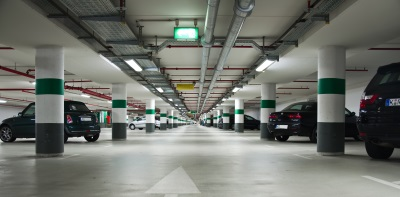car: (1, 91, 104, 145), (267, 97, 370, 149), (217, 111, 264, 132), (129, 112, 168, 133)
